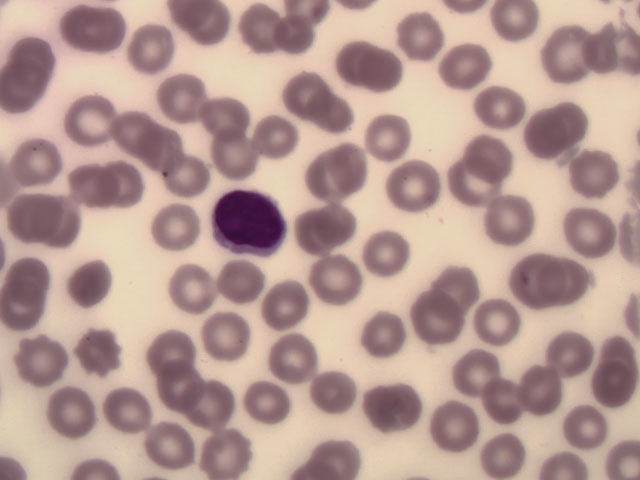RBC: (59, 2, 107, 52), (133, 28, 181, 78), (69, 88, 117, 138), (97, 104, 145, 154), (120, 121, 168, 171), (152, 149, 200, 199), (104, 163, 152, 213), (62, 164, 110, 214), (37, 193, 85, 243), (7, 193, 55, 243), (17, 140, 65, 190), (7, 70, 55, 120), (14, 28, 62, 78), (151, 71, 199, 121), (202, 86, 250, 136), (206, 126, 254, 176), (243, 115, 291, 165), (275, 71, 323, 121), (315, 95, 363, 145), (329, 37, 377, 87), (399, 9, 447, 59), (436, 42, 484, 92), (371, 111, 419, 161), (330, 139, 378, 189), (297, 156, 345, 206), (318, 200, 366, 250), (290, 211, 338, 261), (311, 255, 359, 305), (368, 226, 416, 276), (389, 168, 437, 218), (452, 163, 500, 213), (471, 137, 519, 187), (477, 83, 525, 133), (522, 112, 570, 162), (555, 98, 603, 148), (546, 30, 594, 80), (569, 147, 617, 197), (563, 203, 611, 253), (545, 254, 593, 304), (511, 259, 559, 309), (469, 294, 517, 344), (439, 261, 487, 311), (414, 291, 462, 341), (360, 307, 408, 357), (262, 331, 310, 381), (262, 279, 310, 329), (218, 257, 266, 307), (202, 309, 250, 359), (170, 260, 218, 310), (157, 208, 205, 258), (72, 254, 120, 304), (14, 247, 62, 297), (3, 280, 51, 330), (18, 334, 66, 384), (77, 327, 125, 377), (49, 385, 97, 435), (106, 378, 154, 428), (148, 420, 196, 470), (197, 430, 245, 480), (191, 382, 239, 432), (161, 364, 209, 414), (148, 330, 196, 380), (243, 376, 291, 426), (308, 370, 356, 420), (352, 389, 400, 439), (388, 380, 436, 430), (437, 400, 485, 450), (453, 346, 501, 396), (477, 383, 525, 433), (522, 352, 570, 402), (544, 331, 592, 381), (580, 360, 628, 410), (592, 321, 640, 371), (562, 401, 610, 451), (482, 430, 530, 480), (310, 430, 358, 480), (592, 21, 640, 71), (492, 1, 540, 50)
WBC: (204, 191, 284, 261)
